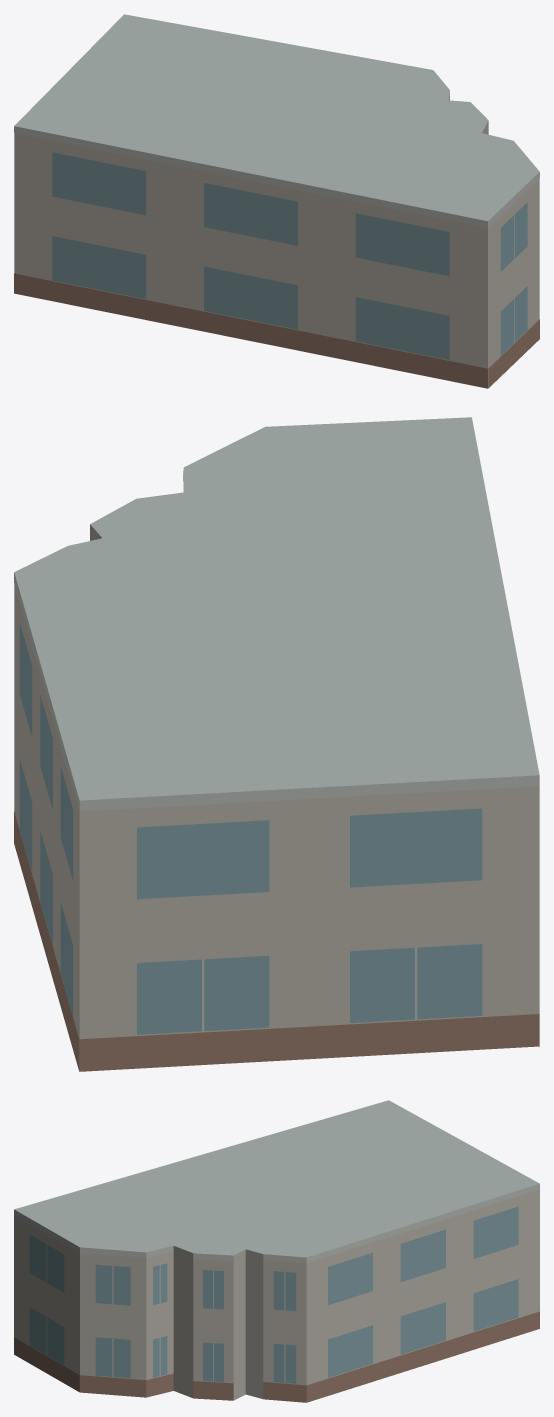
Rendered from survey-upis-32564566.glb.
3 views of the same model, one above another, from view 1: azimuth 30°, elevation 25°; view 2: azimuth 150°, elevation 25°; view 3: azimuth 270°, elevation 25° (orthographic). The views are drawn at different scales.
Visible parts, largest first — view 1: survey-upis-32564566.tmp; view 2: survey-upis-32564566.tmp; view 3: survey-upis-32564566.tmp.
Boxes of the visible parts, x1,y1,x2,y2 form: survey-upis-32564566.tmp: [14, 14, 539, 388]; survey-upis-32564566.tmp: [14, 417, 539, 1071]; survey-upis-32564566.tmp: [14, 1100, 539, 1402].
Bounding box in the file's own units: 14.19 × 6.1 × 20.03.
